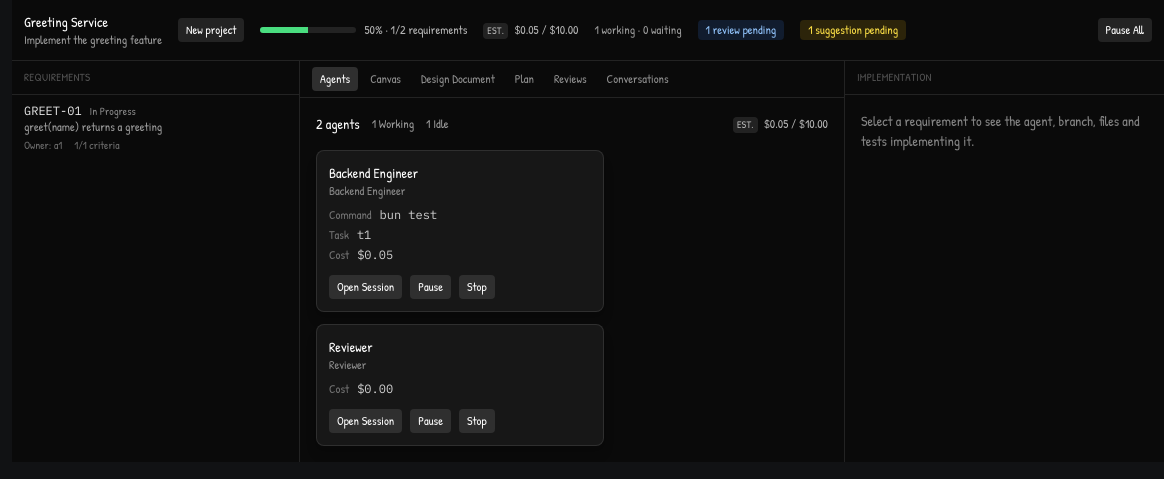
Test: Control Room shell › the requirement list drives the implementation panel
expect the text with test id "project-name" reads "Greeting Service": met, box [24,12,108,31]
expect the text with test id "requirement-detail-empty" is shown: met, box [861,110,1140,150]
Click the button with test id "requirement-GREET-01".
click(156, 128)  # box [12,94,299,162]
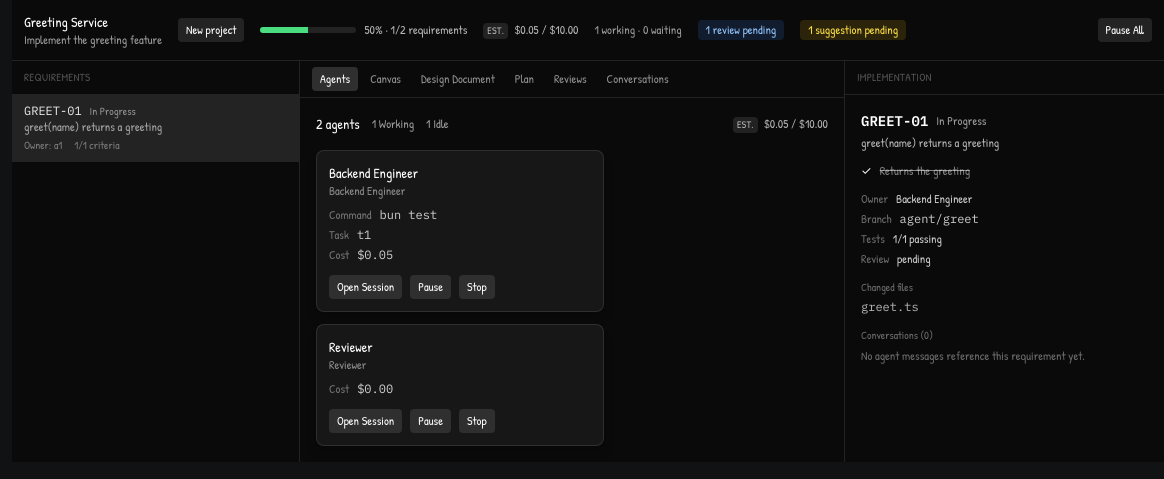
expect the text with test id "detail-id" reads "GREET-01": met, box [861,112,928,130]
expect the text with test id "detail-branch" reads "agent/greet": met, box [900,210,979,226]
expect the element with test id "detail-owner" reads "Backend Engineer": met, box [896,190,972,206]
